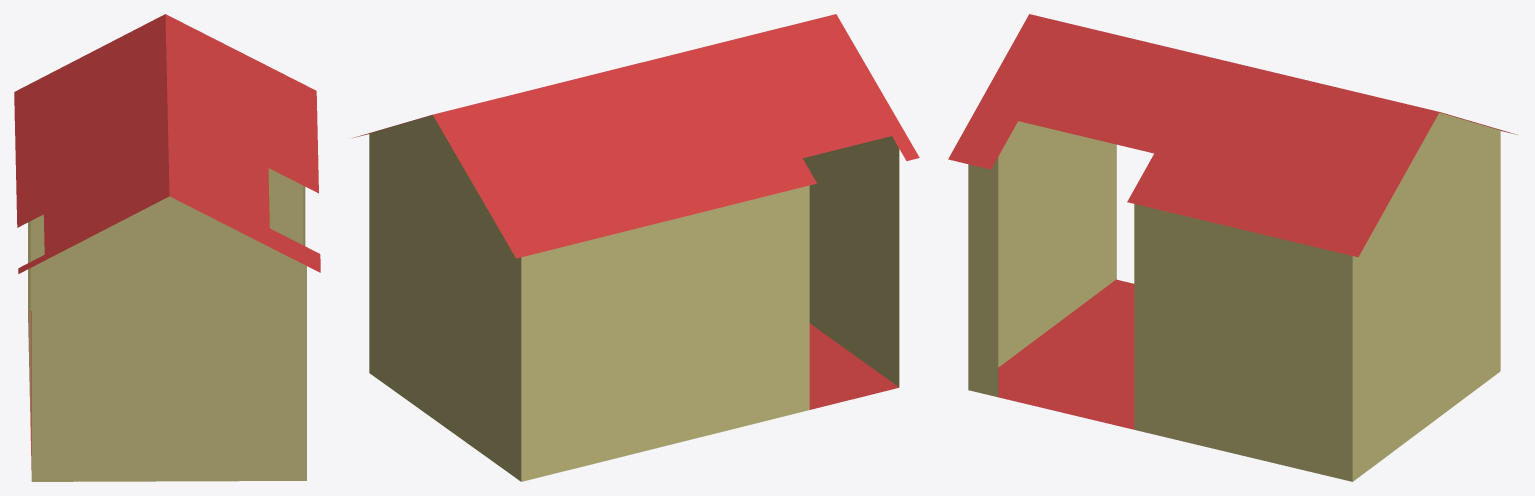
3 views of the same model, side by side, from view 1: azimuth 30°, elevation 25°; view 2: azimuth 150°, elevation 25°; view 3: azimuth 270°, elevation 25° (orthographic). The views are drawn at different scales.
Visible parts, largest first — view 1: group_5, group_3, group_4; view 2: group_5, group_3, group_6, group_4; view 3: group_5, group_3, group_6, group_4.
Part boxes in pixels (x1,y1,x2,y2): group_5: (28, 168, 306, 481); group_3: (14, 14, 320, 273); group_4: (14, 15, 318, 271); group_5: (369, 115, 899, 481); group_3: (353, 14, 919, 258); group_6: (809, 323, 898, 409); group_4: (365, 16, 915, 257); group_5: (968, 112, 1500, 481); group_3: (948, 14, 1517, 257); group_6: (998, 279, 1134, 429); group_4: (950, 28, 1508, 254).
Bounding box in the file's own units: 17.52 × 19.32 × 11.82.
